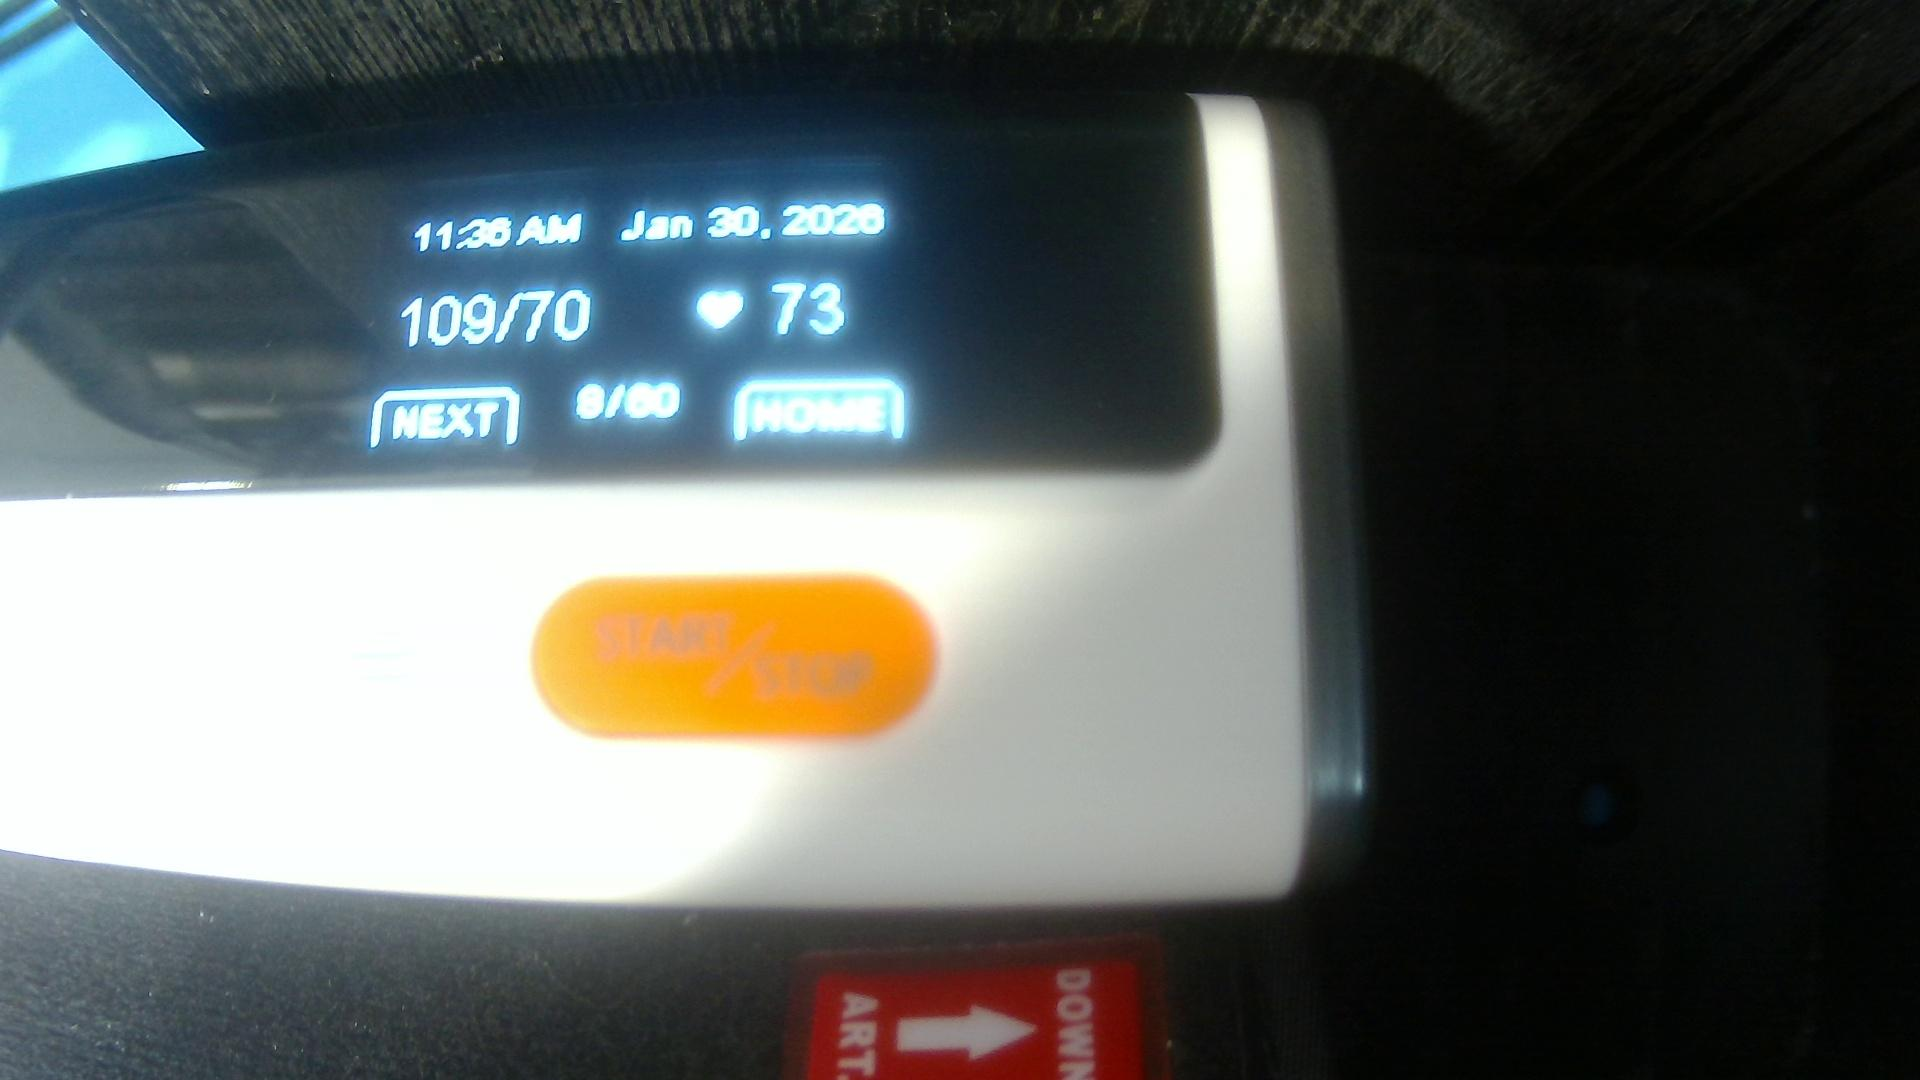DISPLAY: (7, 94, 1193, 493)
